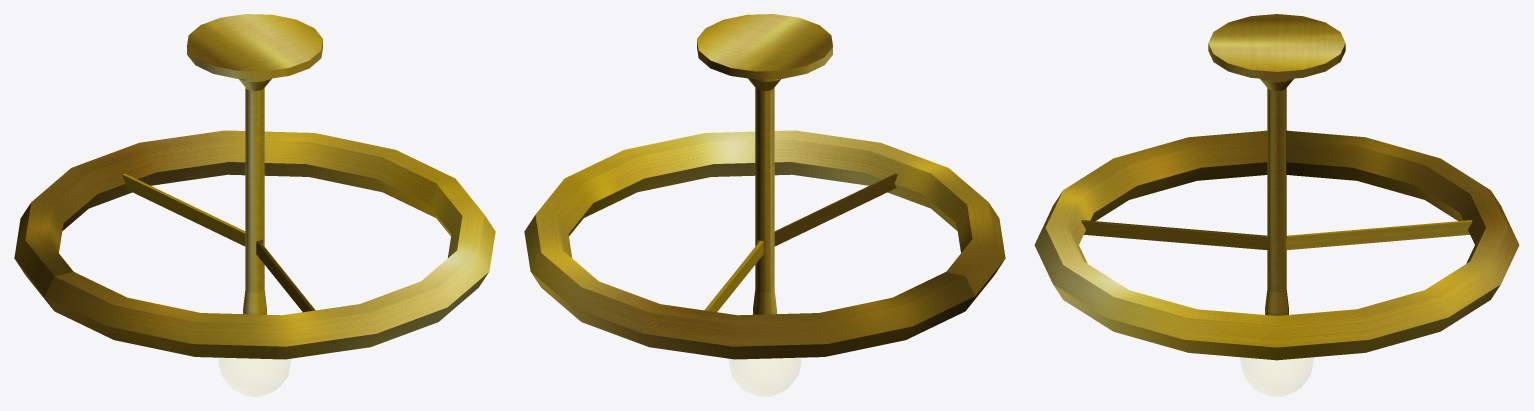
File: light_bulb.fbx
3 views of the same model, side by side, from view 1: azimuth 30°, elevation 25°; view 2: azimuth 150°, elevation 25°; view 3: azimuth 270°, elevation 25° (orthographic).
Parts seen in each view (by area): view 1: adorno, Cable; view 2: adorno, Cable; view 3: adorno, Cable.
Part boxes in pixels (x1,y1,x2,y2): adorno: (14,130,495,359); Cable: (122,14,322,314); adorno: (524,130,1005,359); Cable: (697,14,897,314); adorno: (1034,130,1519,360); Cable: (1081,14,1472,315).
Bounding box in the file's own units: 436 × 348 × 436.
